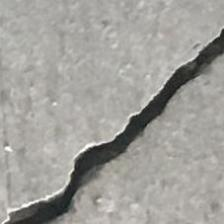Crack: (3, 25, 224, 224)
